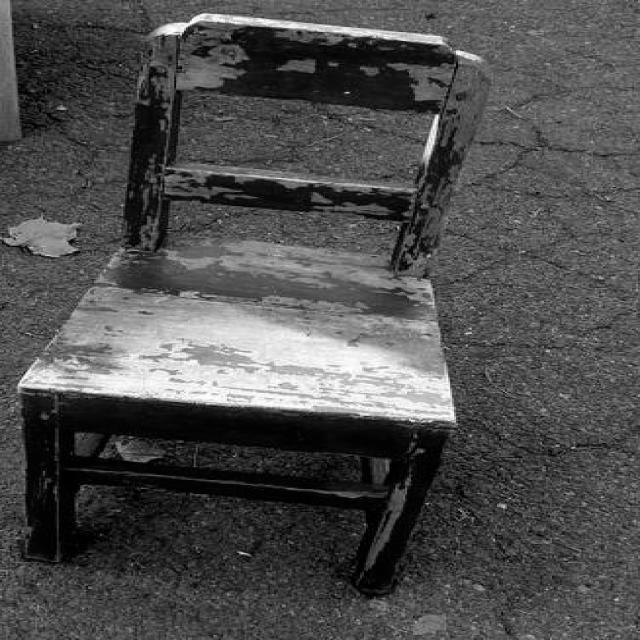chair: (24, 12, 492, 596)
